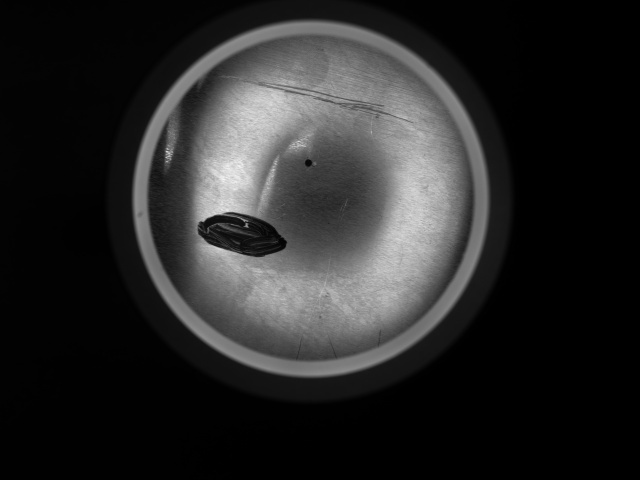ca_shang: (196, 71, 419, 123)
zang_wu: (196, 209, 292, 259)
zhen_kong: (298, 154, 319, 169)
